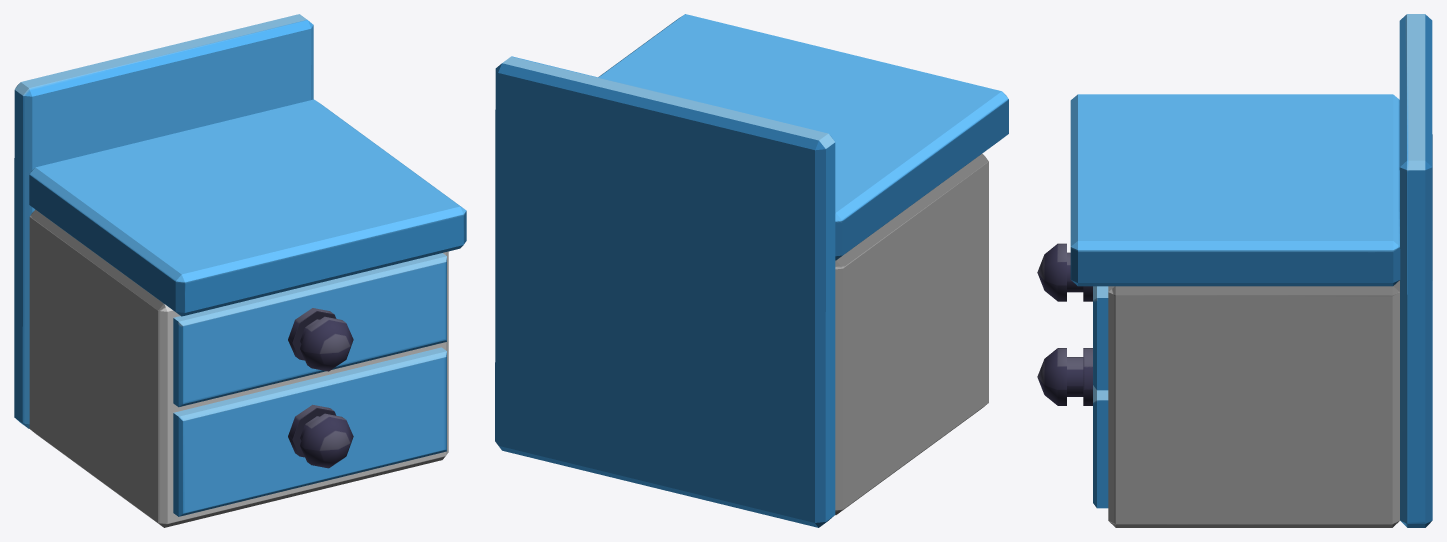
The model's file is housepack_drawer_kitchen_1.FBX.
3 renders of one model, left to right at view 1: azimuth 30°, elevation 25°; view 2: azimuth 150°, elevation 25°; view 3: azimuth 270°, elevation 25°, orthographic. The views are drawn at different scales.
Parts seen in each view (by area): view 1: housepack_drawer_kitchen_1; view 2: housepack_drawer_kitchen_1; view 3: housepack_drawer_kitchen_1.
Boxes of the visible parts, <box> form: housepack_drawer_kitchen_1: <box>14,14,466,527</box>; housepack_drawer_kitchen_1: <box>495,14,1008,527</box>; housepack_drawer_kitchen_1: <box>1037,14,1432,527</box>.
Bounding box in the file's own units: 50.03 × 55.99 × 54.61.
